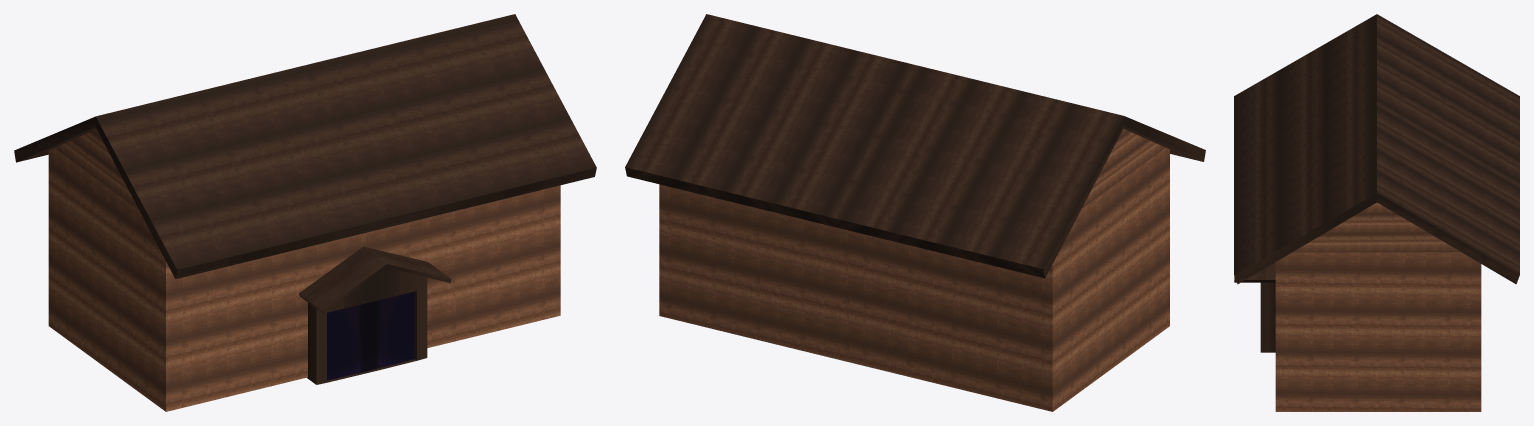
File: cabin.glb
3 renders of one model, left to right at view 1: azimuth 30°, elevation 25°; view 2: azimuth 150°, elevation 25°; view 3: azimuth 270°, elevation 25°, orthographic. The views are drawn at different scales.
Visible parts, largest first — view 1: Cylinder; view 2: Cylinder; view 3: Cylinder.
Boxes of the visible parts, x1,y1,x2,y2 form: Cylinder: [14, 14, 596, 411]; Cylinder: [625, 14, 1205, 411]; Cylinder: [1234, 14, 1519, 411].
Size of the model in its own units: 6.53 by 3.89 by 4.4.
Materials: 3 (3 with a texture image).
